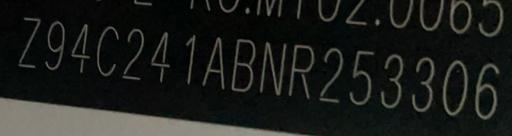letter: (472, 59, 502, 123), (314, 45, 348, 101), (437, 58, 471, 113), (143, 29, 175, 84), (375, 54, 409, 105), (90, 25, 122, 75), (349, 45, 375, 105), (197, 35, 227, 87), (258, 41, 288, 93), (410, 54, 436, 113), (228, 35, 254, 93), (288, 40, 312, 102), (40, 19, 66, 70), (17, 14, 39, 70), (122, 25, 142, 83), (176, 29, 196, 87), (68, 19, 88, 74)
